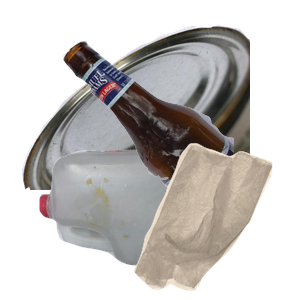glass: (60, 38, 300, 218)
metal: (19, 22, 259, 202)
plastic: (37, 147, 254, 300)
trash: (132, 140, 300, 300)
